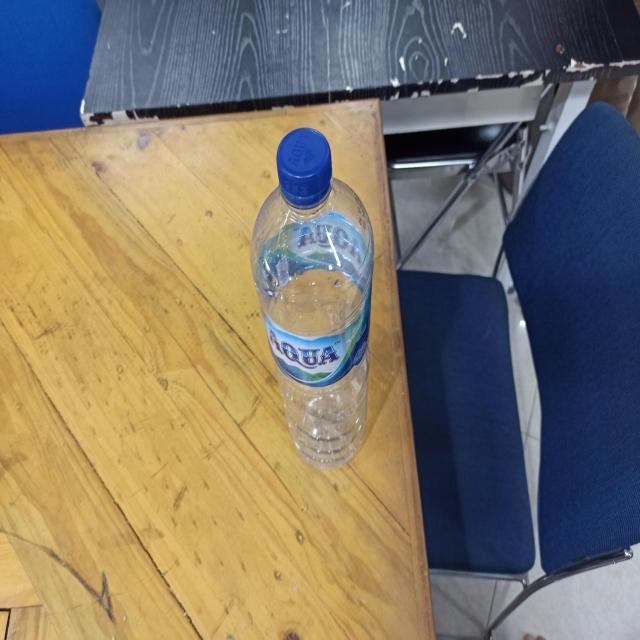BotolPlastik: (248, 126, 374, 469)
